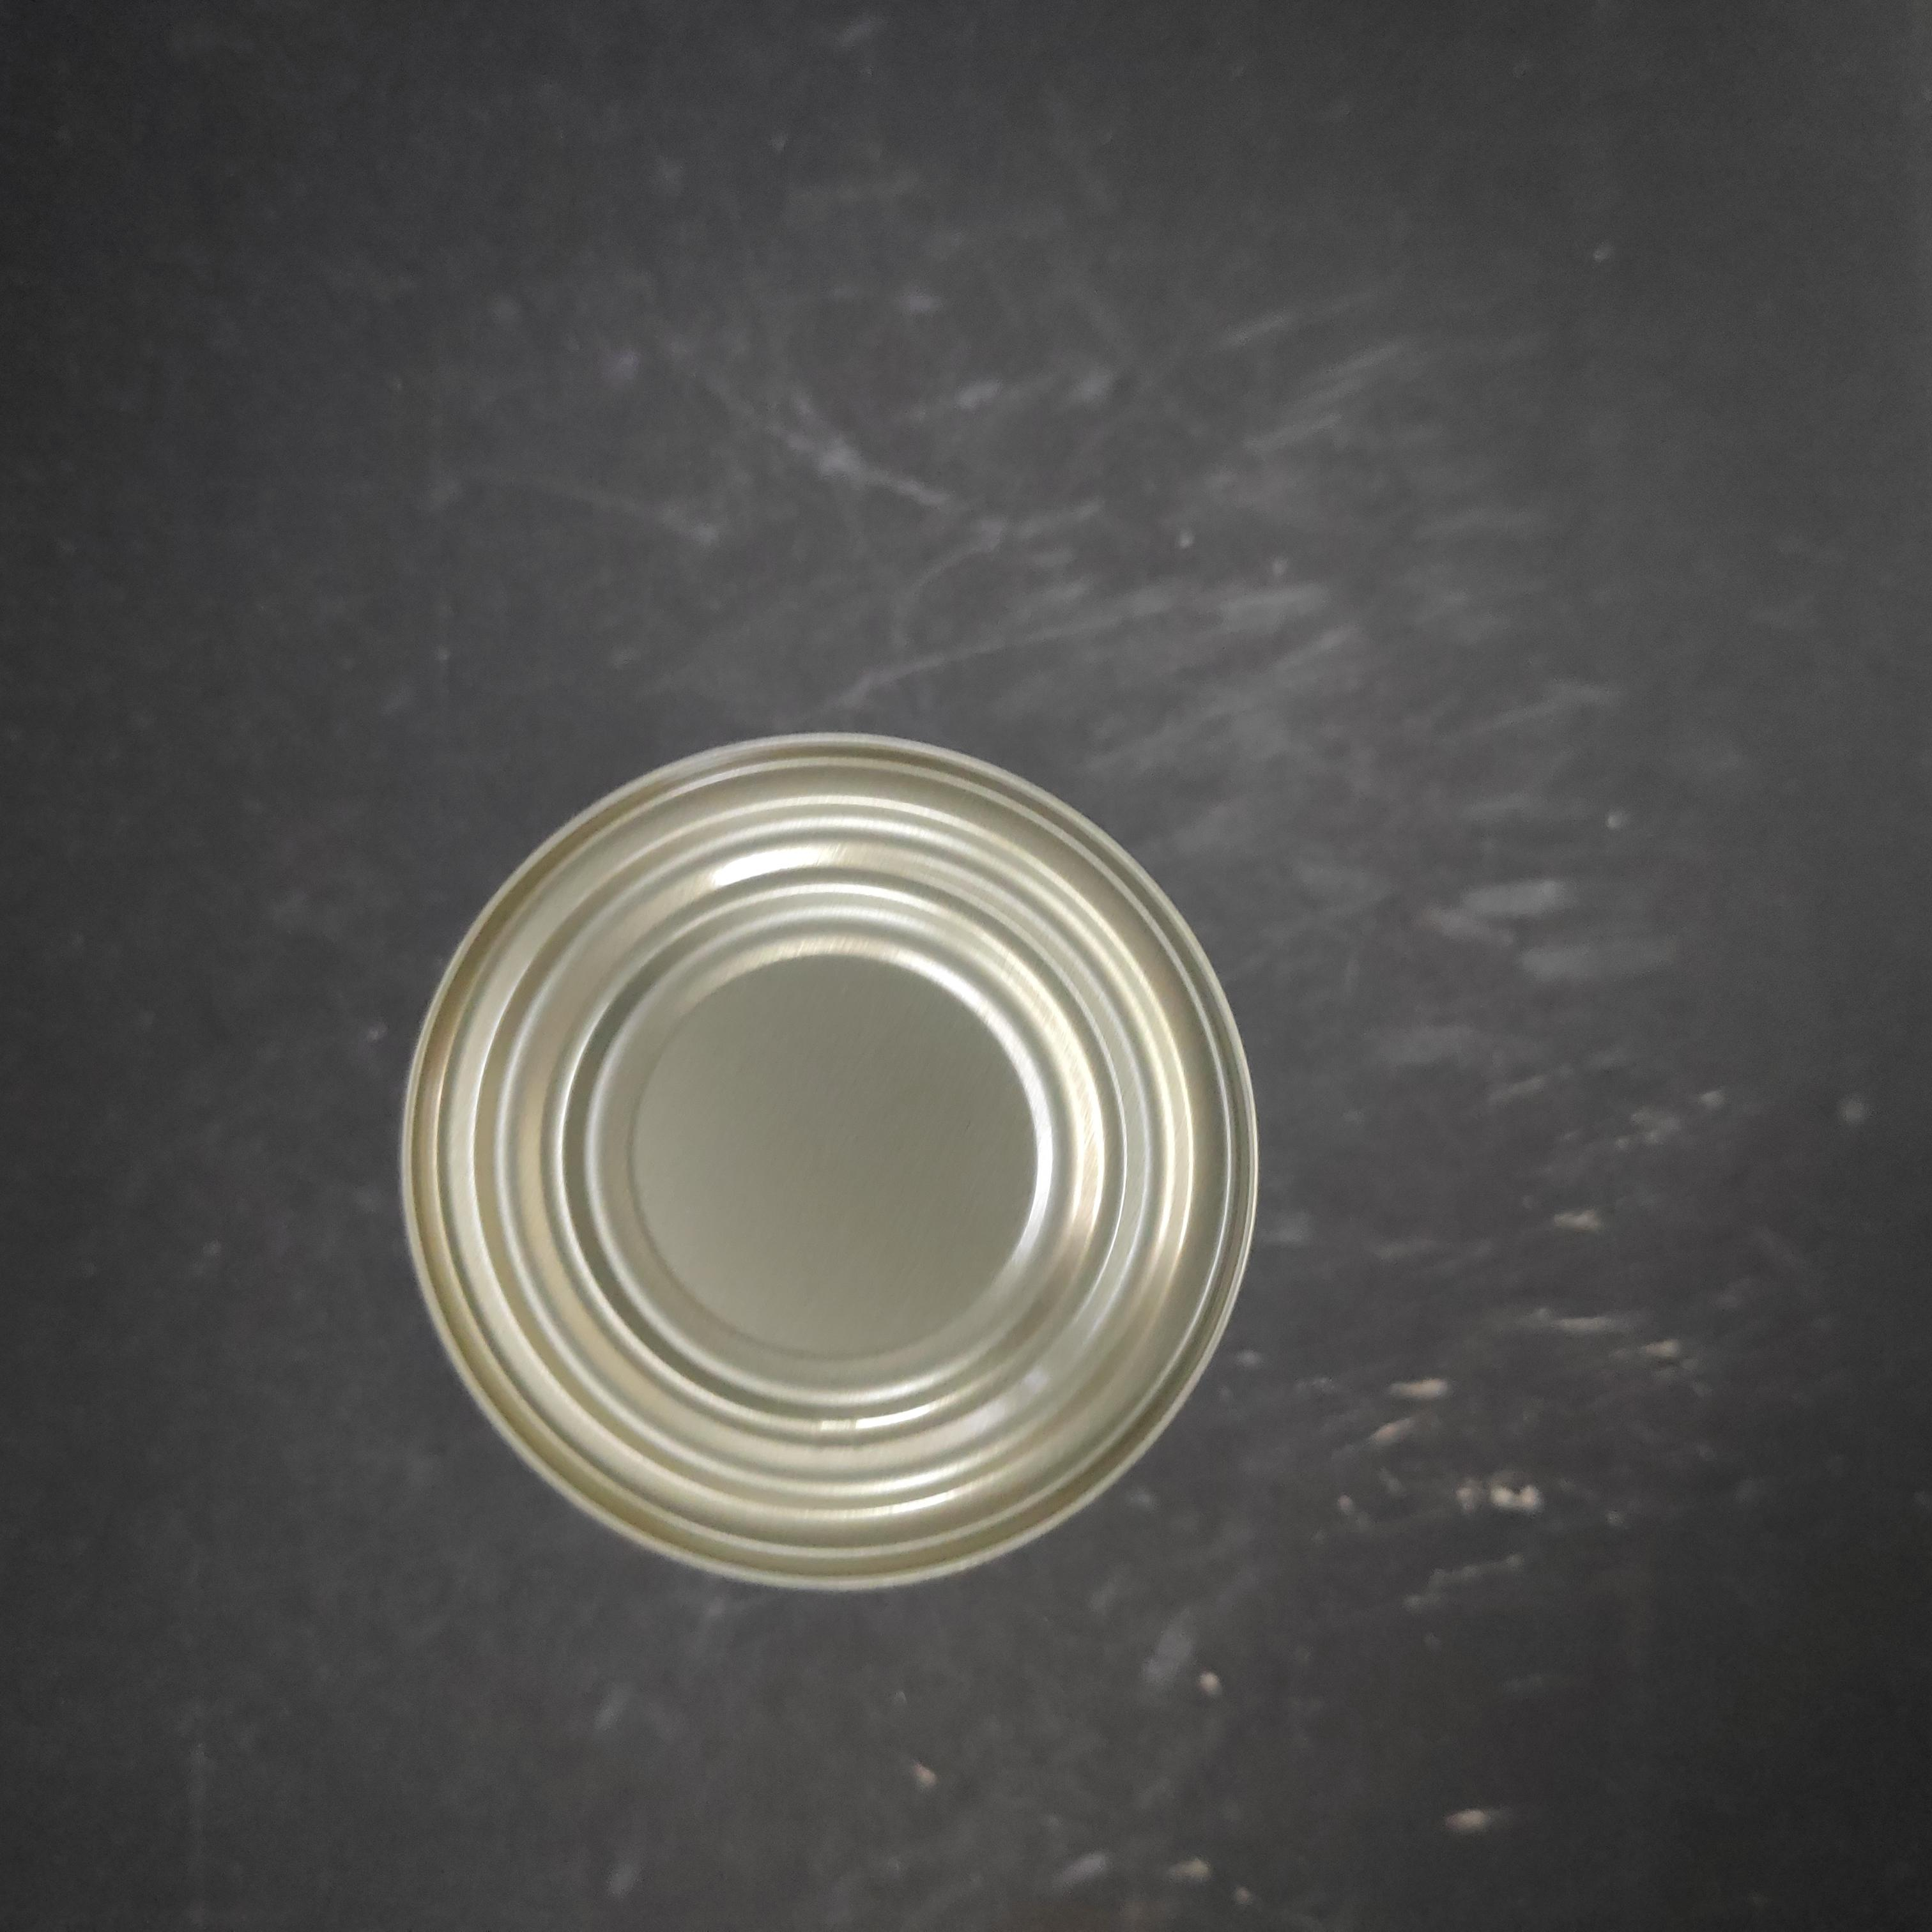No defect: (709, 656, 1608, 1553)
